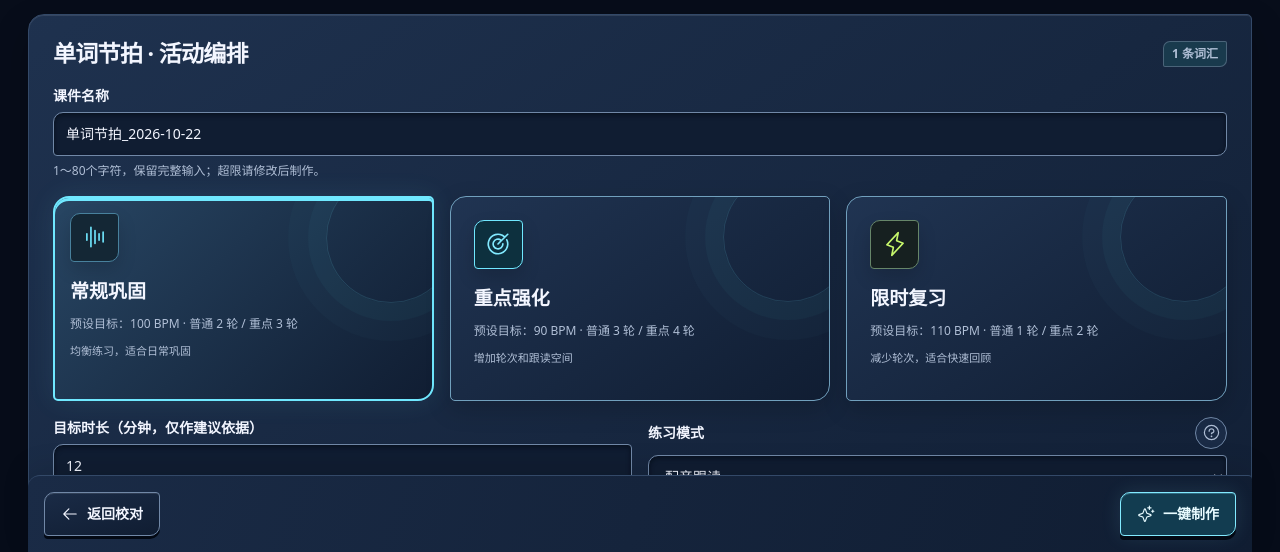
it: 三步制作会话 › 预设切换先看差异，取消不改值，确认才切换并恢复操作焦点
Step 1. Click the radio button labelled "重点强化 预设目标：90 BPM · 普通 3 轮 / 重点 4 轮 增加轮次和跟读空间" → (498, 244), box [450,196,830,401]
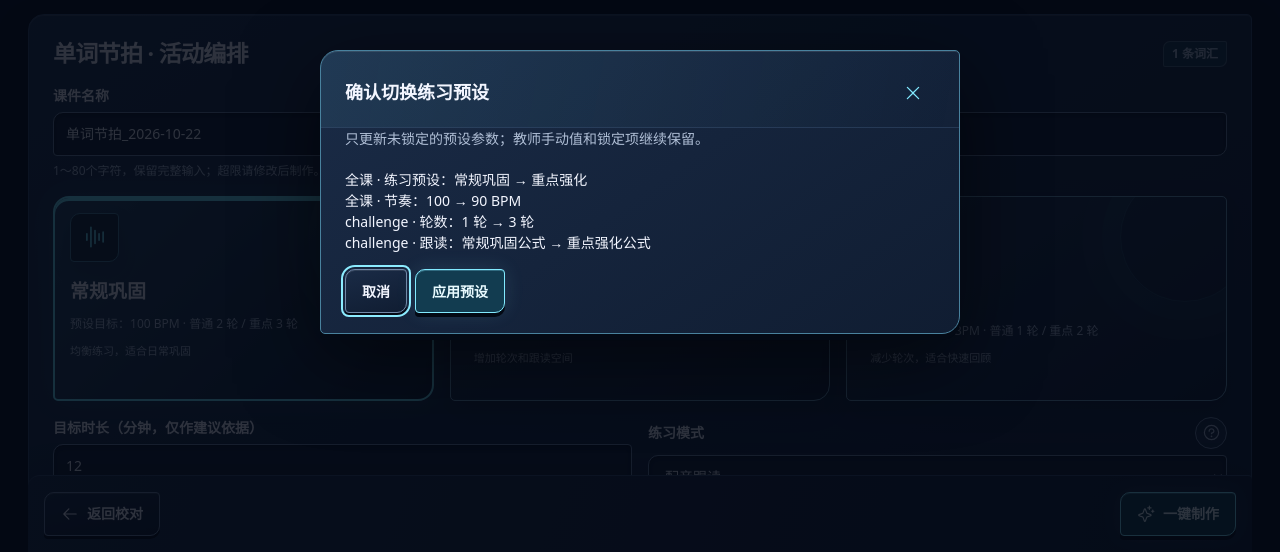
Expected: the dialog "确认切换练习预设" shows "1 轮 → 3 轮", [420,212,534,231]
Step 2. Click the button "取消" → (376, 291), box [345,269,407,313]
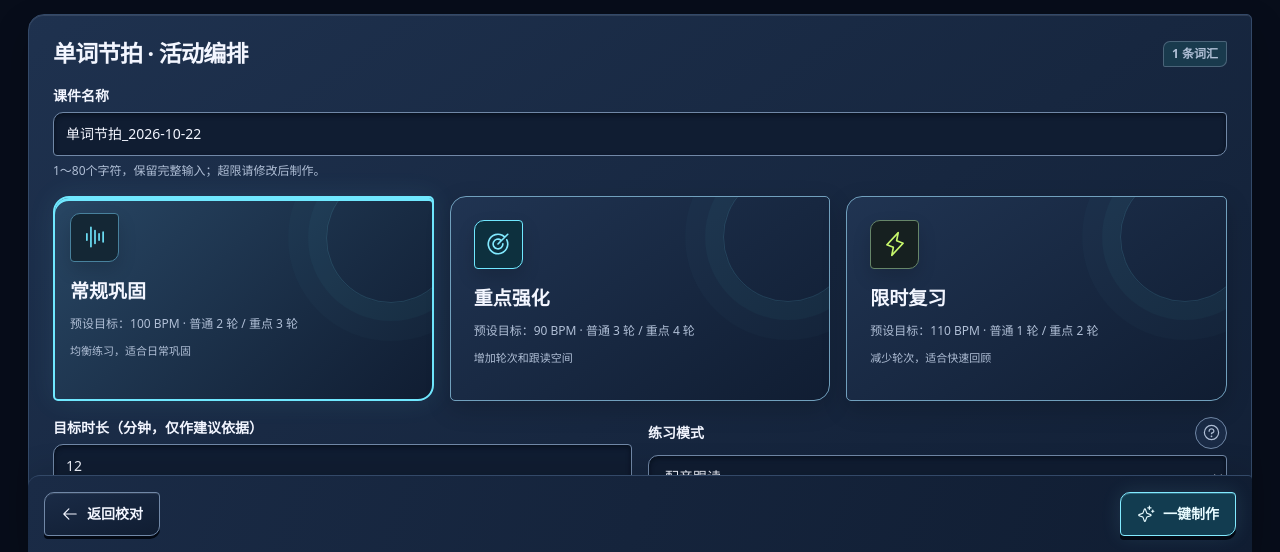
Expected: the dialog is gone
Step 3. Click the radio button labelled "重点强化 预设目标：90 BPM · 普通 3 轮 / 重点 4 轮 增加轮次和跟读空间" → (498, 244), box [450,196,830,401]
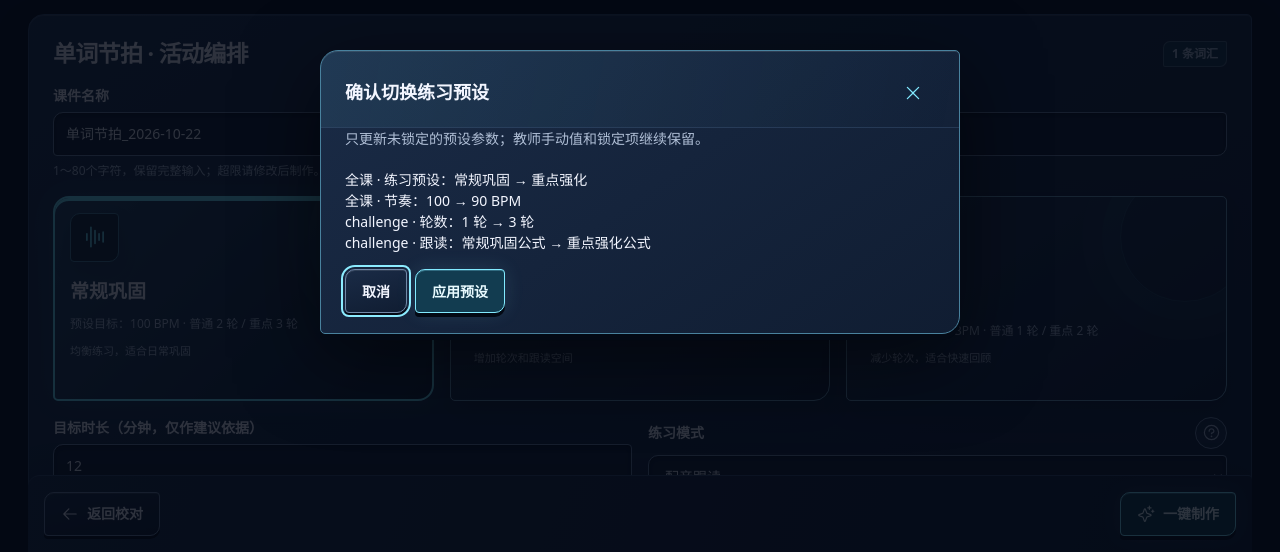
Step 4. Click the button "应用预设" → (460, 291), box [415,269,505,313]
(page scrolled)
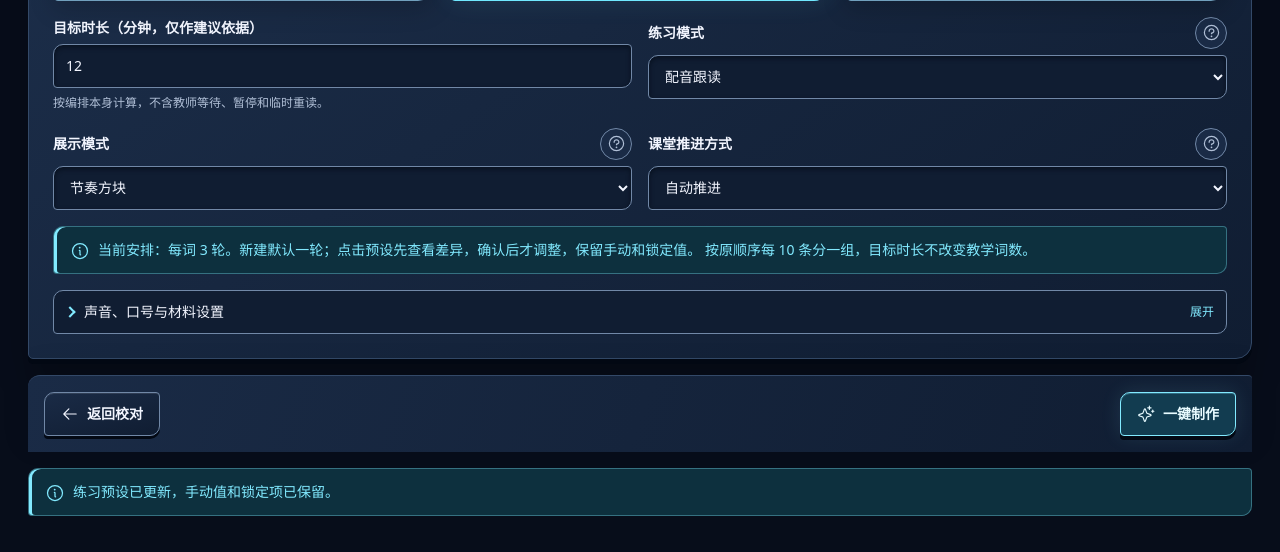
Expected: the text "当前安排：每词 3 轮" is shown, [98,239,1036,260]
